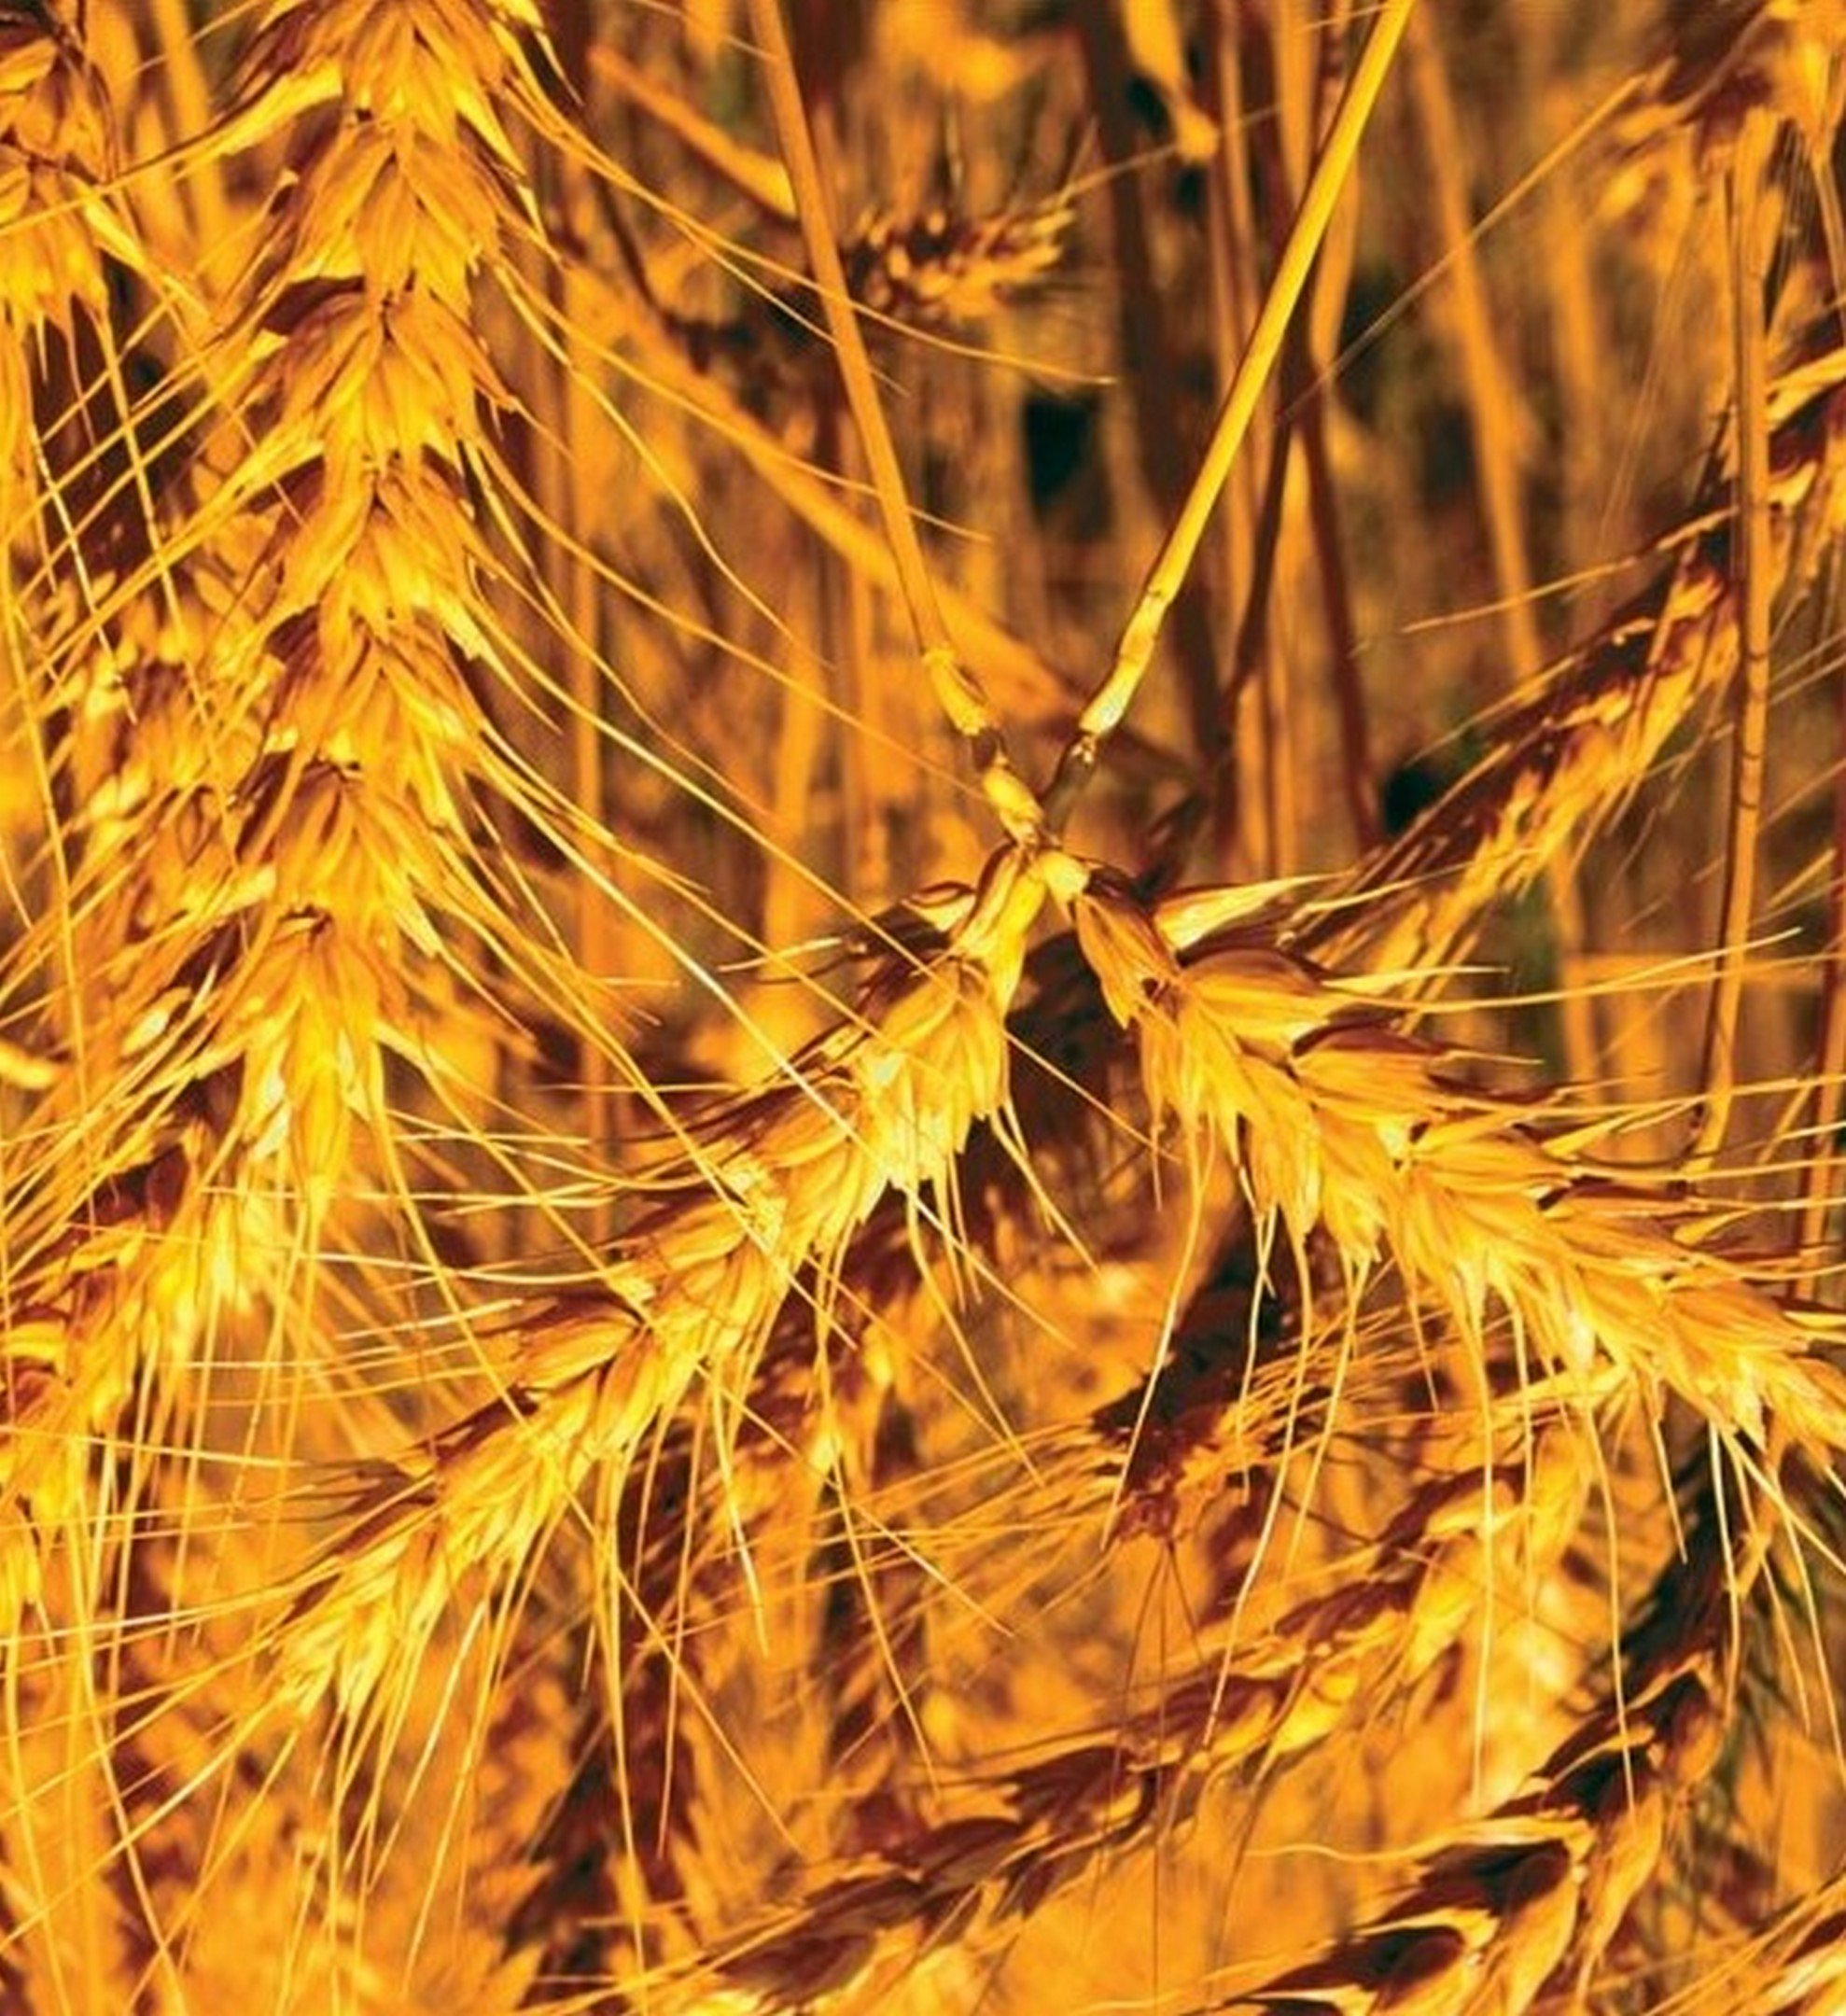Healthy Wheat: (234, 860, 1019, 1696), (1077, 868, 1846, 1475)
